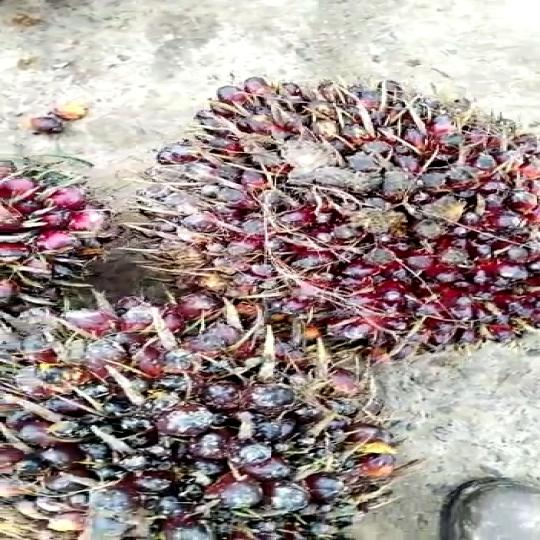kurang masak: (166, 53, 540, 358)
